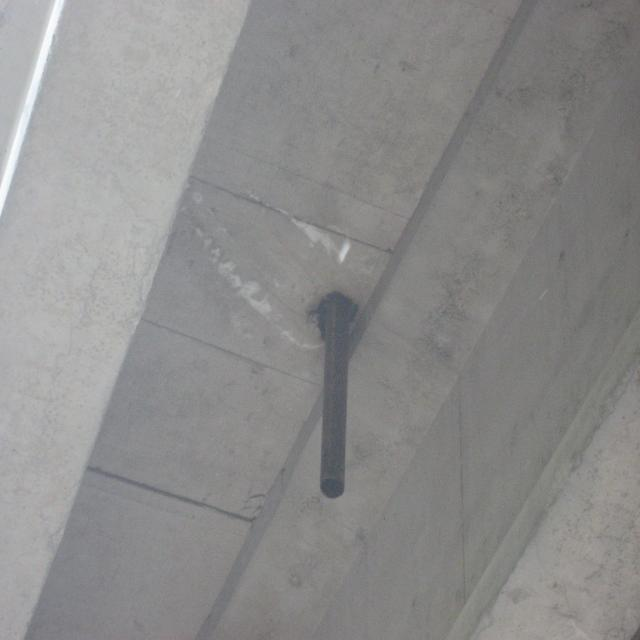corrosion: (303, 281, 363, 506)
